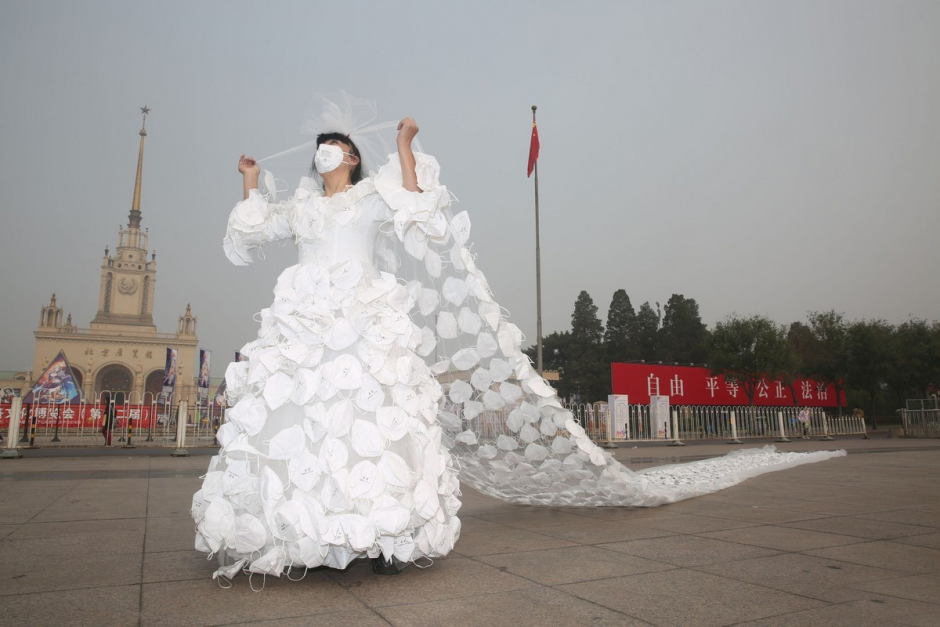face_mask: (315, 136, 344, 176)
